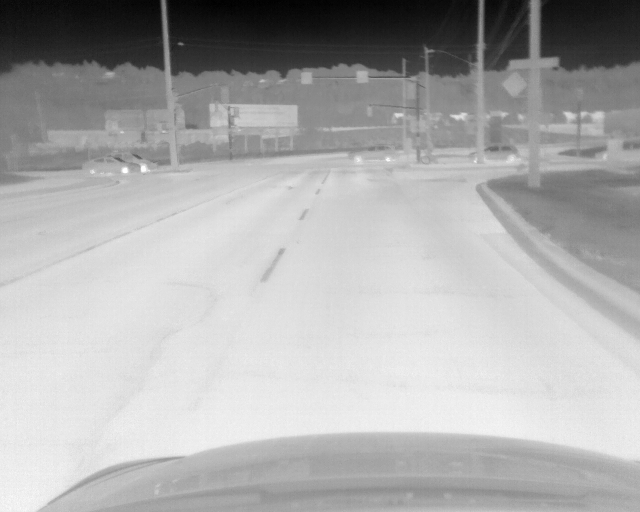car: (466, 143, 521, 164), (81, 156, 141, 175), (347, 143, 401, 163), (115, 152, 159, 175)
